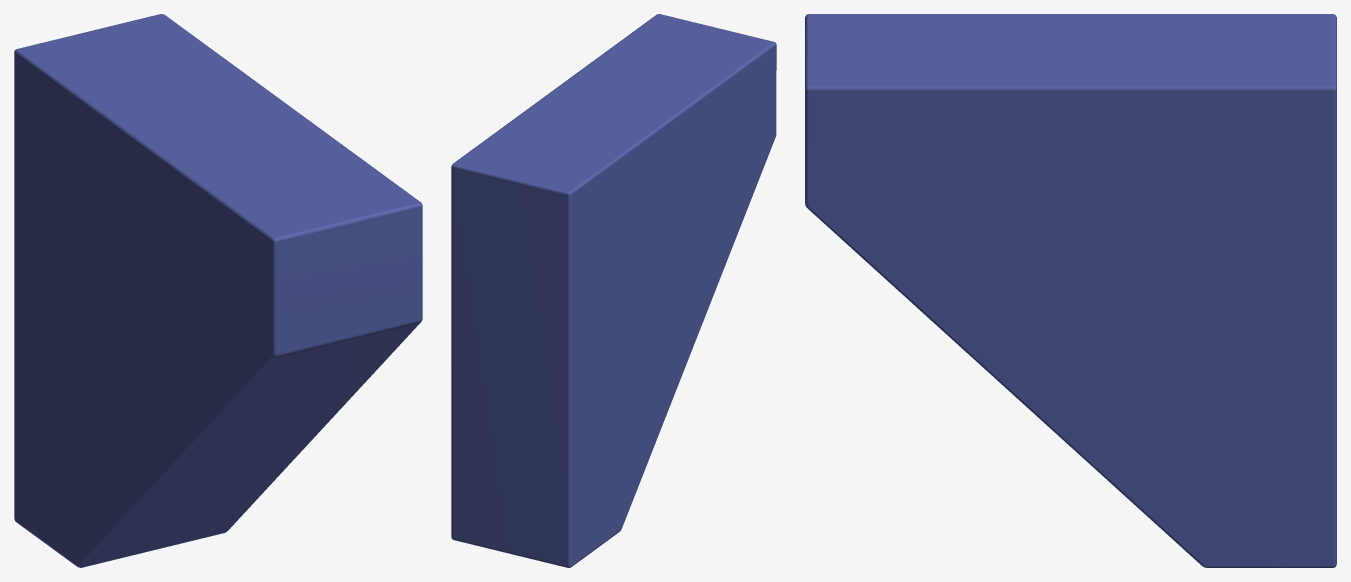
The model's file is SM_AngledCube_04.fbx.
3 renders of one model, left to right at view 1: azimuth 30°, elevation 25°; view 2: azimuth 150°, elevation 25°; view 3: azimuth 270°, elevation 25°, orthographic. The views are drawn at different scales.
Parts seen in each view (by area): view 1: SM_AngledCube_04; view 2: SM_AngledCube_04; view 3: SM_AngledCube_04.
Part boxes in pixels (bbox=[...]): SM_AngledCube_04: bbox=[14, 14, 422, 567]; SM_AngledCube_04: bbox=[451, 14, 776, 567]; SM_AngledCube_04: bbox=[805, 14, 1336, 567].
Bounding box in the file's own units: 200 × 600 × 600.
